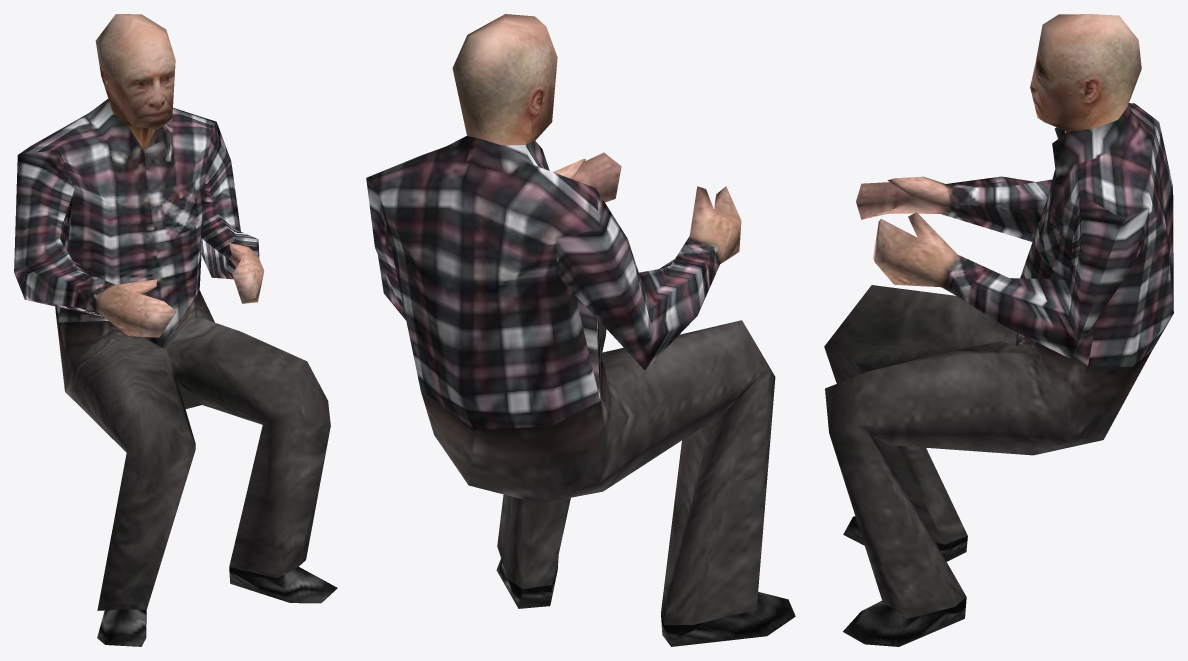
File: Ganpa02.glb
3 views of the same model, side by side, from view 1: azimuth 30°, elevation 25°; view 2: azimuth 150°, elevation 25°; view 3: azimuth 270°, elevation 25° (orthographic). The views are drawn at different scales.
Visible parts, largest first — view 1: casual28_m_lowpoly_网格_casual28_m_lowpoly_网格mesh.003; view 2: casual28_m_lowpoly_网格_casual28_m_lowpoly_网格mesh.003; view 3: casual28_m_lowpoly_网格_casual28_m_lowpoly_网格mesh.003.
Boxes of the visible parts, bbox=[...] form: casual28_m_lowpoly_网格_casual28_m_lowpoly_网格mesh.003: bbox=[14, 14, 337, 646]; casual28_m_lowpoly_网格_casual28_m_lowpoly_网格mesh.003: bbox=[366, 14, 795, 646]; casual28_m_lowpoly_网格_casual28_m_lowpoly_网格mesh.003: bbox=[824, 14, 1173, 646].
Bounding box in the file's own units: 0.6123 × 1.32 × 0.7156.
Materials: 1 (1 with a texture image).
